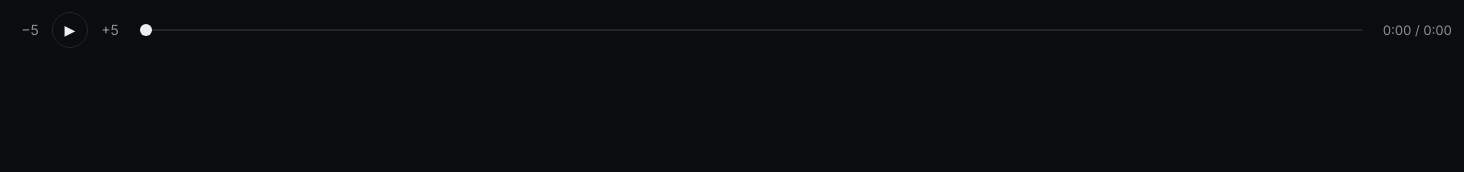
Scenario: Player › play claims playback; the button toggles to Duraklat; unmount unregisters
Click the button named "Oynat" at (70, 30), box [52,12,88,48]
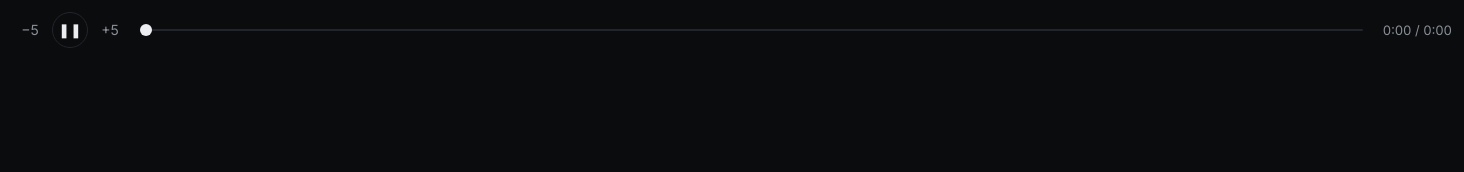
expect the button named "Duraklat" is shown: met, box [52,12,88,48]
